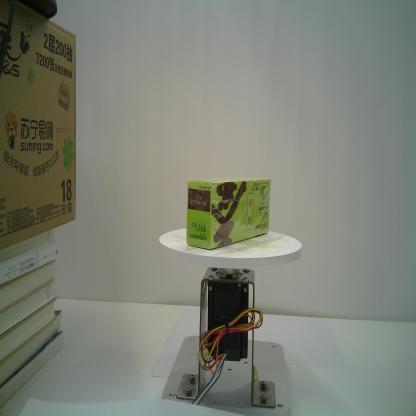Instant Drink: (186, 178, 271, 250)
